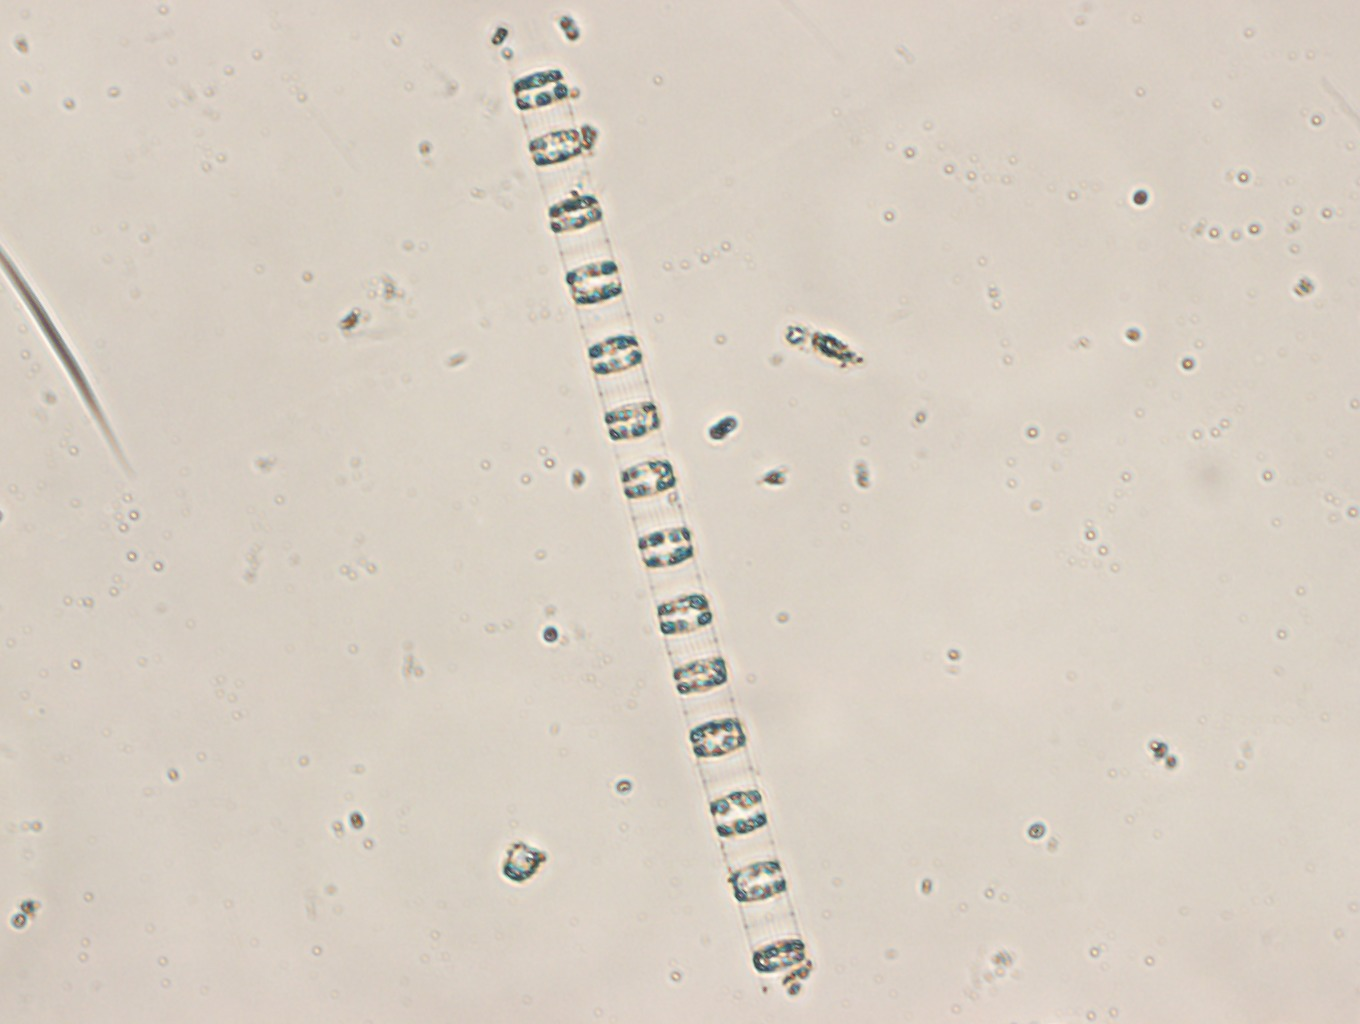skeletonema: (512, 63, 812, 1001)
